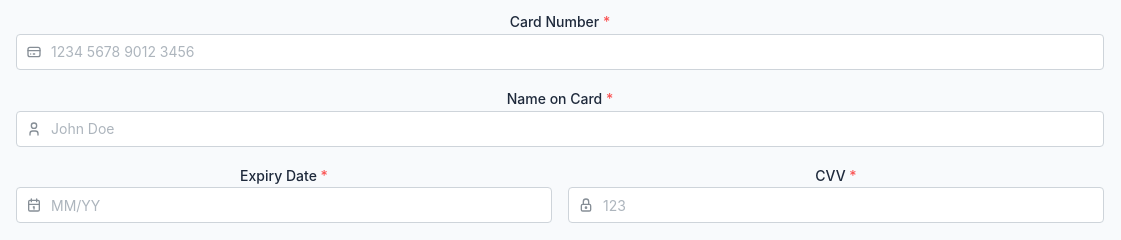
PaymentInfoSection › should format card number with spaces
Type "1234567890123456" into the field labelled "Card Number *" at [560, 52], box [16,34,1104,70]
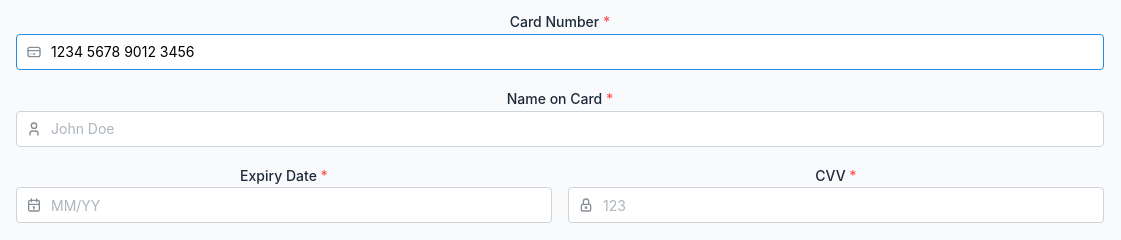
Expected: the field labelled "Card Number *" holds "1234 5678 9012 3456", [16,34,1104,70]
